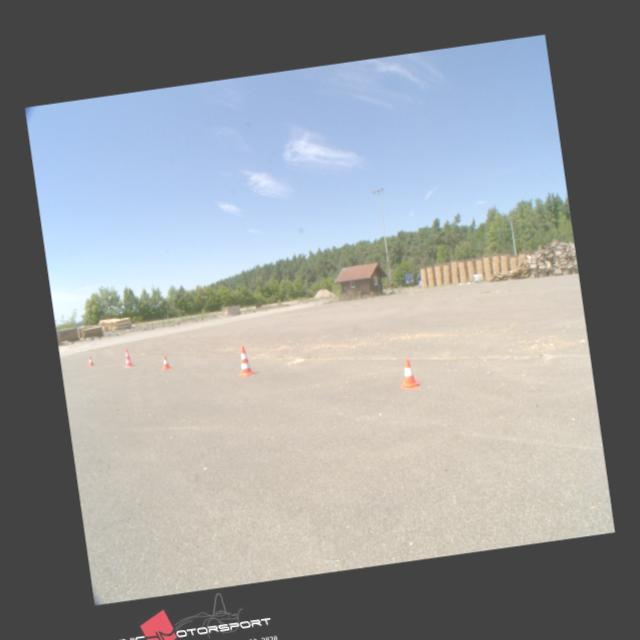large_orange_cone: (236, 345, 254, 376), (122, 348, 134, 368)
orange_cone: (396, 358, 421, 389), (160, 355, 170, 369), (88, 356, 94, 366)
